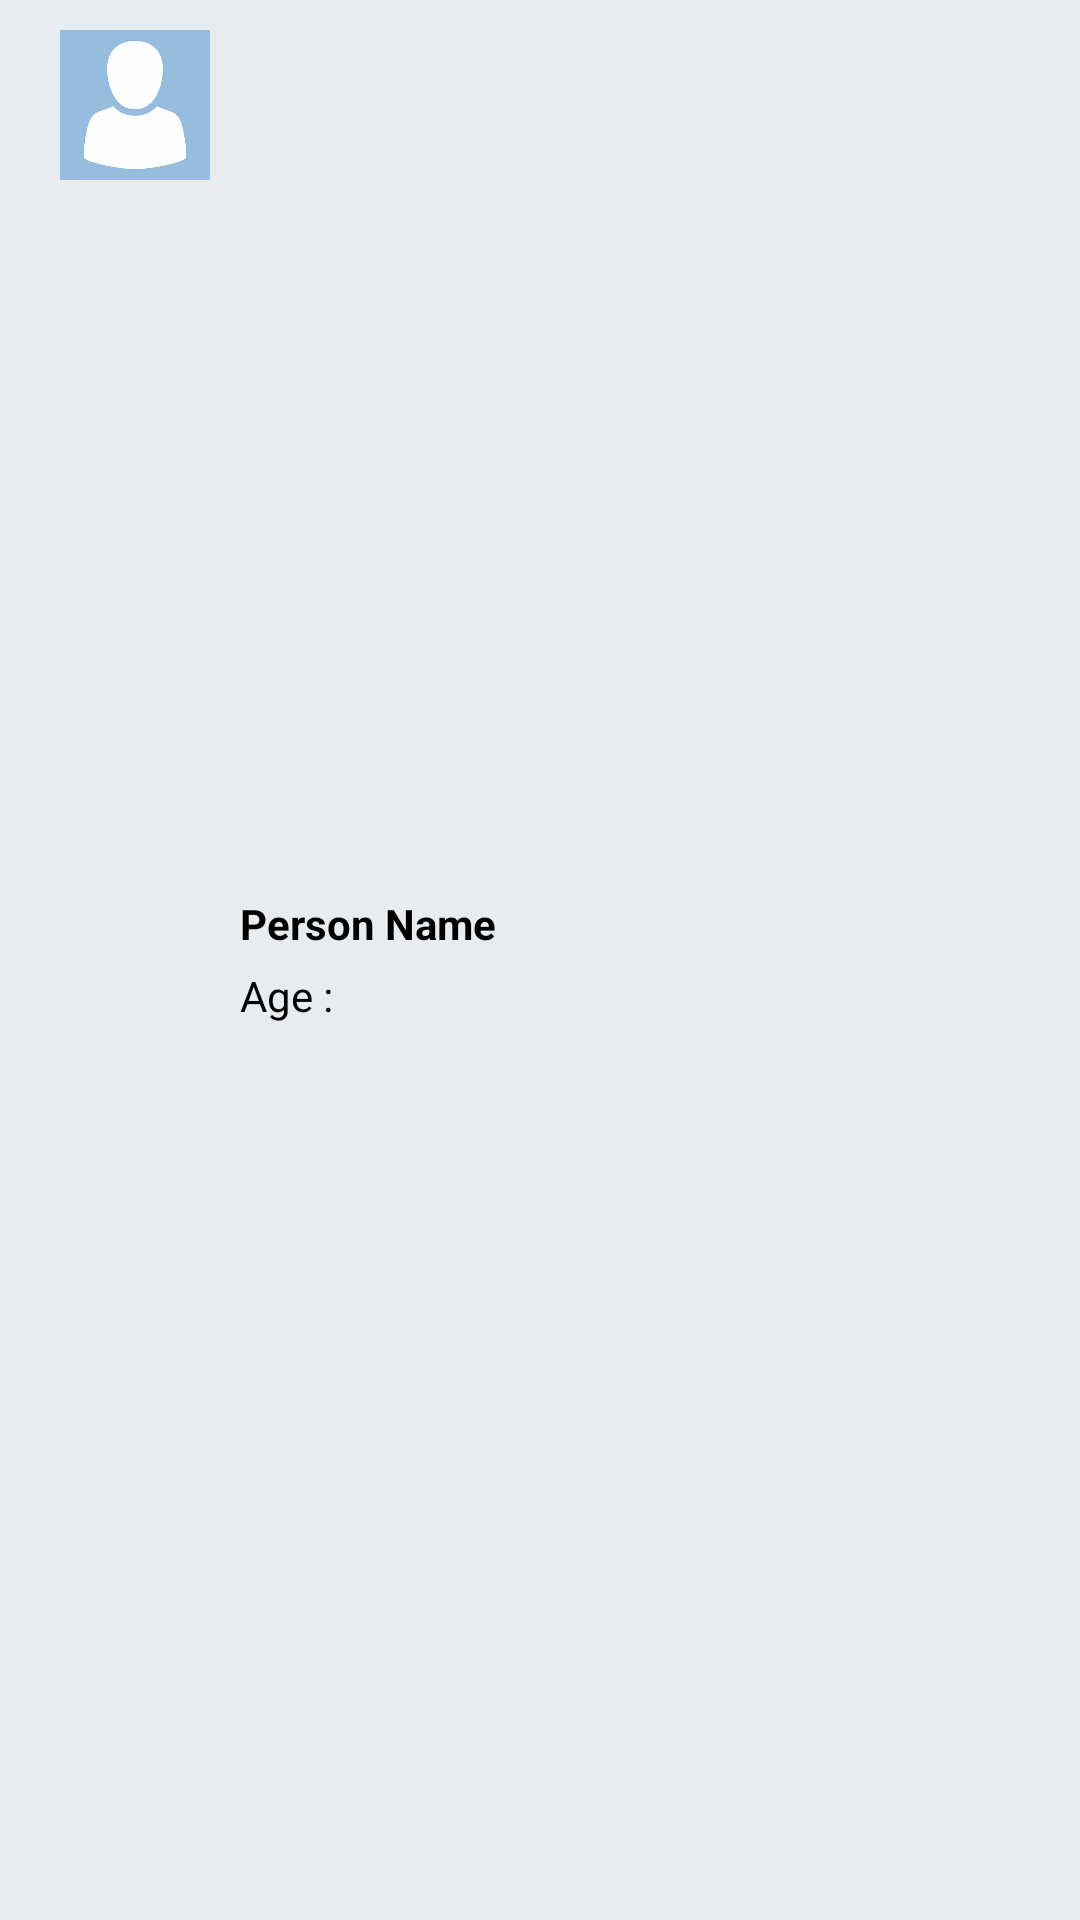

Point at icon controls on the screen. Image size 1080 × 1920, points as [x,y].
profiledummy: [135,105]
